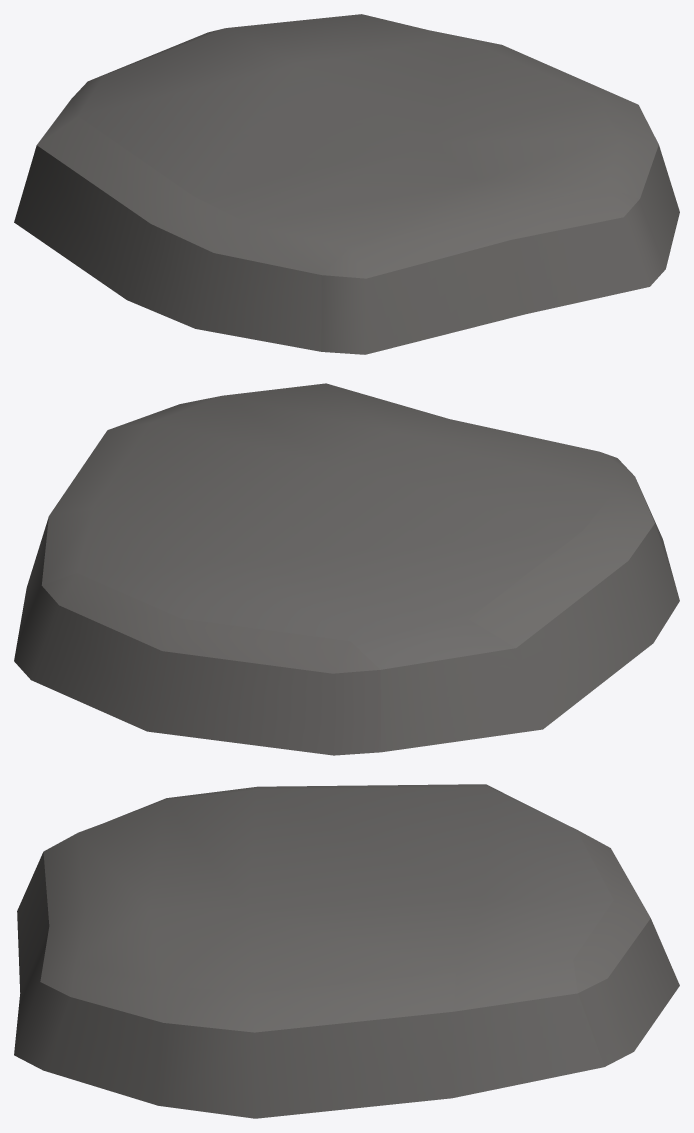
The model's file is Brick_4_3.obj.
3 renders of one model, top to bottom at view 1: azimuth 30°, elevation 25°; view 2: azimuth 150°, elevation 25°; view 3: azimuth 270°, elevation 25°, orthographic. The views are drawn at different scales.
Visible parts, largest first — view 1: Brick_4_3; view 2: Brick_4_3; view 3: Brick_4_3.
Part boxes in pixels (<box>): Brick_4_3: <box>14,14,679,354</box>; Brick_4_3: <box>14,383,679,755</box>; Brick_4_3: <box>14,784,679,1118</box>.
Size of the model in its own units: 0.4222 by 0.0674 by 0.4356.
